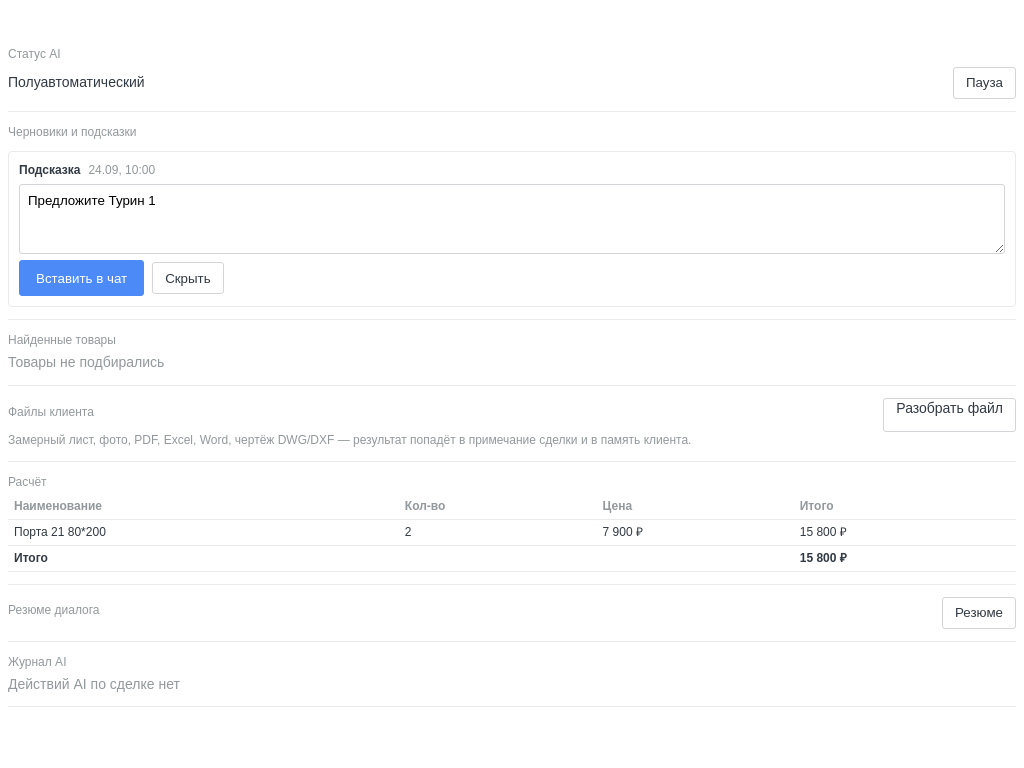
Test: панель сделки: черновики, подсказки, расчёт › подсказка вставляется в поле чата
Click the button "Вставить в чат" at (82, 278), box [19,260,144,296]
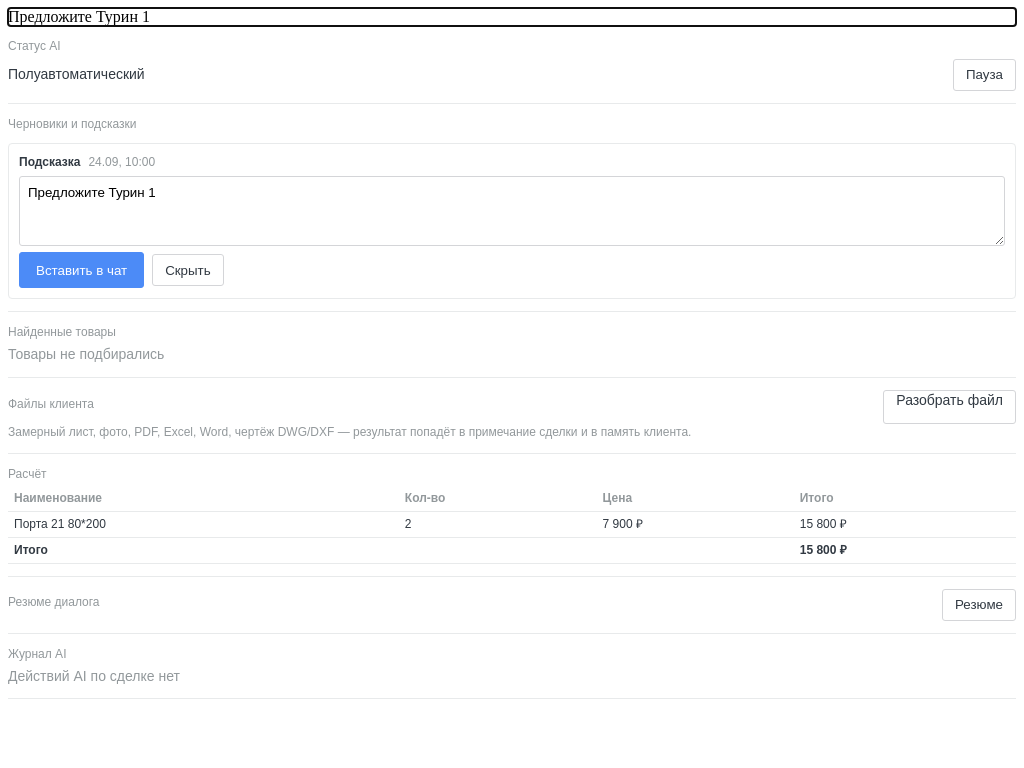
Check: the text box labelled "Предложите Турин 1" is shown, box [8,8,150,25]
